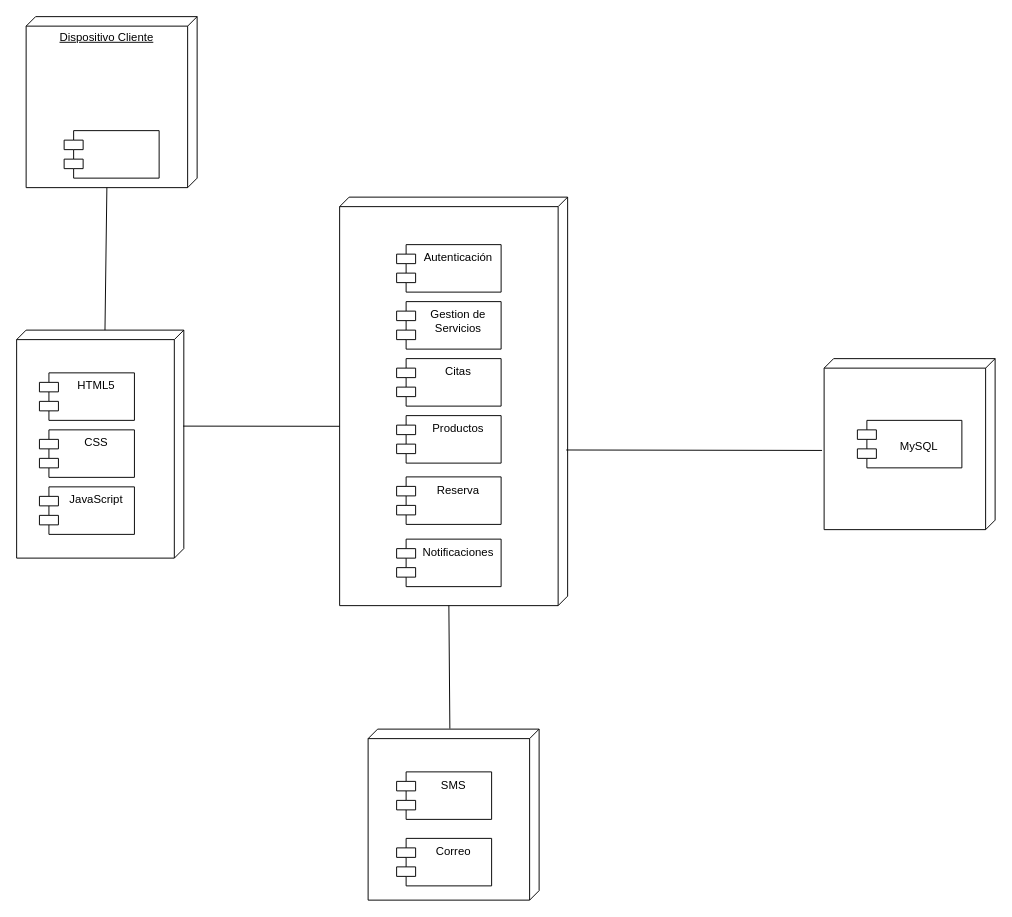
This 1012x917 diagram has some shape labels left out. The box of each missing label's shape, as (x1, y1, x2, y2) in pixels:
PC: (63, 130, 159, 178)
Servidor Backend: (339, 196, 568, 606)
Servidor de Base de Datos: (823, 358, 995, 530)
Servidor de Notificaciones:: (367, 728, 539, 900)
Servidor Web: (16, 329, 184, 558)
